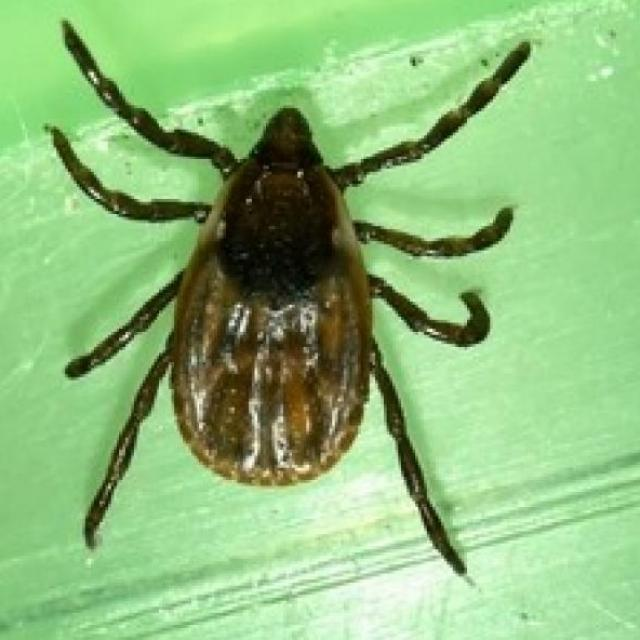Rhipicephalus Sanguineus-F: (45, 18, 530, 577)
